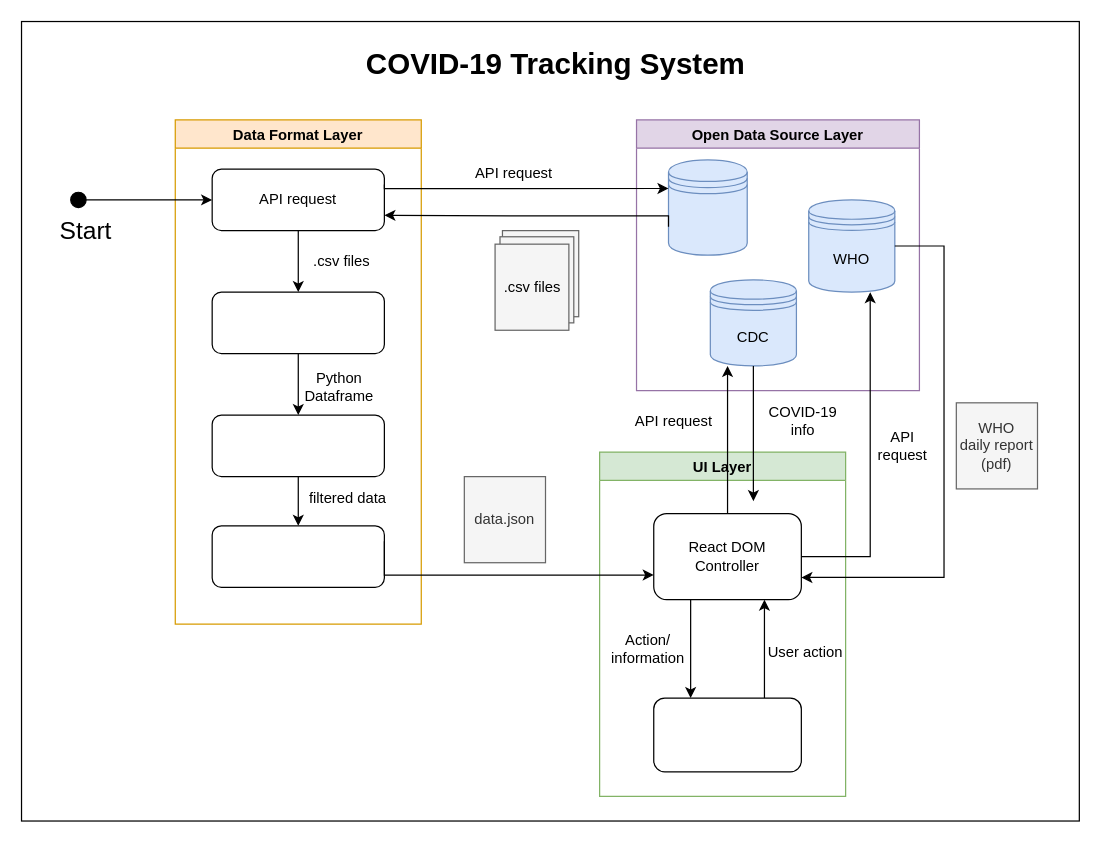
Image size: 1101x843. Some labels were removed from this diagram. The shapes that lost their labels are listed below. From the top down, each one's centre as x and y in pixels, then its label:
At [707,207]: "JH".
At [297,322]: ".csv file reader".
At [297,445]: "Filter and formate data".
At [297,556]: "json writer".
At [727,734]: "Website".
